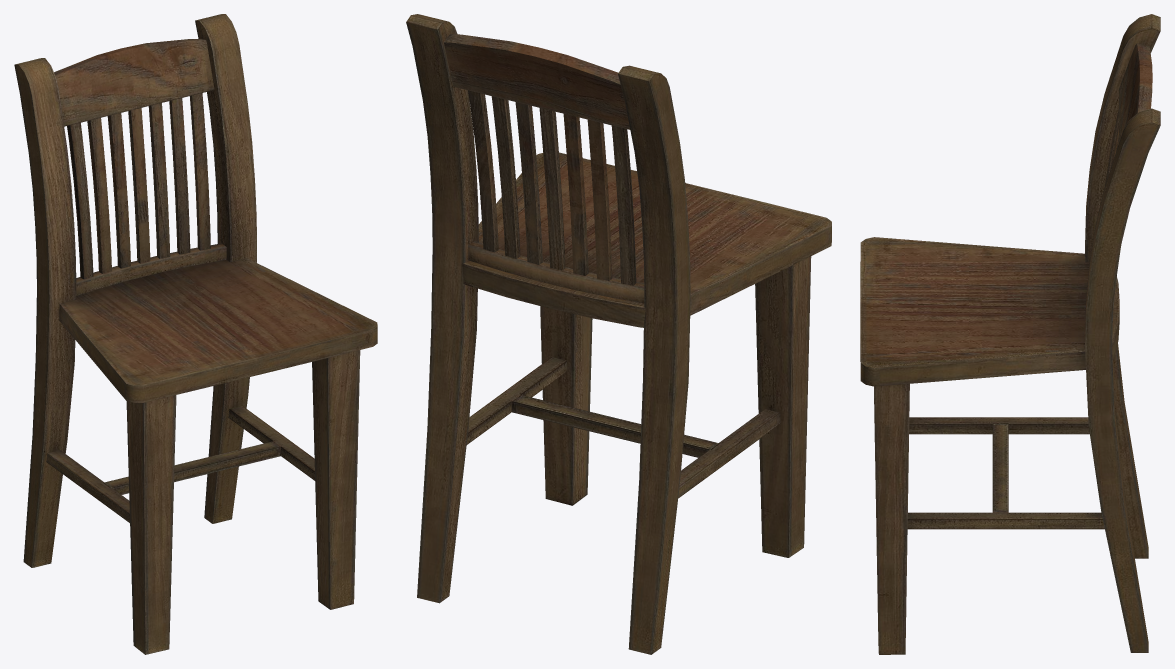
The model's file is chair.obj.
3 views of the same model, side by side, from view 1: azimuth 30°, elevation 25°; view 2: azimuth 150°, elevation 25°; view 3: azimuth 270°, elevation 25° (orthographic). The views are drawn at different scales.
Visible parts, largest first — view 1: Nojka_LP4_Detached01; view 2: Nojka_LP4_Detached01; view 3: Nojka_LP4_Detached01.
Boxes of the visible parts, x1,y1,x2,y2 form: Nojka_LP4_Detached01: [14, 14, 377, 654]; Nojka_LP4_Detached01: [406, 14, 831, 654]; Nojka_LP4_Detached01: [860, 14, 1160, 654].
Size of the model in its own units: 11.2 by 21.22 by 10.84.
1 material, 1 textured.
